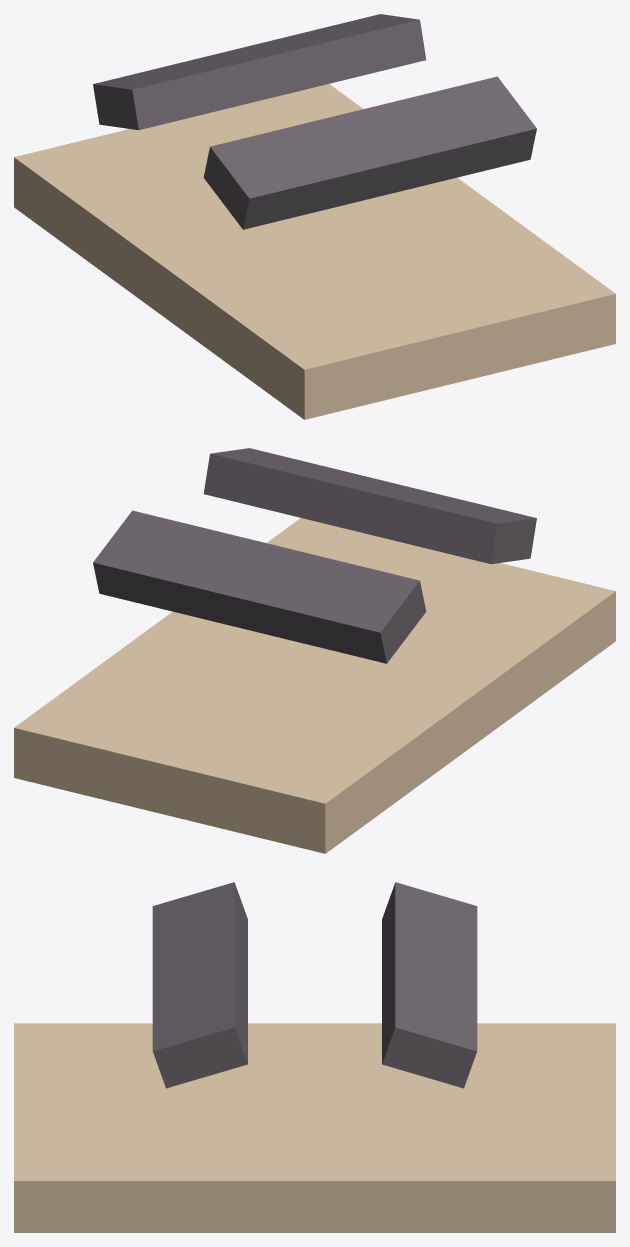
The model's file is strappy_sandal.glb.
3 views of the same model, one above another, from view 1: azimuth 30°, elevation 25°; view 2: azimuth 150°, elevation 25°; view 3: azimuth 270°, elevation 25° (orthographic). The views are drawn at different scales.
Visible parts, largest first — view 1: Strappy Sandal; view 2: Strappy Sandal; view 3: Strappy Sandal.
Part boxes in pixels (<box>): Strappy Sandal: <box>14,14,615,419</box>; Strappy Sandal: <box>14,448,615,853</box>; Strappy Sandal: <box>14,882,615,1232</box>.
Bounding box in the file's own units: 0.26 × 0.1535 × 0.42.
